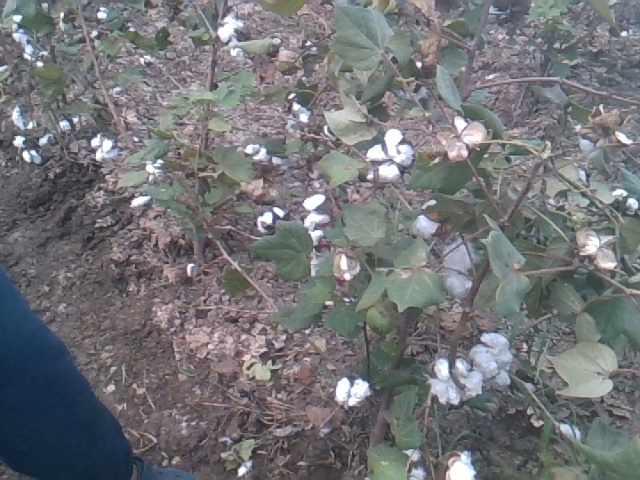cotton: (365, 126, 415, 181), (472, 331, 516, 392), (431, 359, 483, 408), (334, 376, 374, 408), (216, 13, 254, 44), (303, 194, 336, 229), (447, 451, 482, 479), (607, 186, 640, 215), (91, 133, 119, 162), (244, 140, 275, 164), (143, 158, 167, 180), (20, 147, 41, 165), (94, 10, 115, 19)
